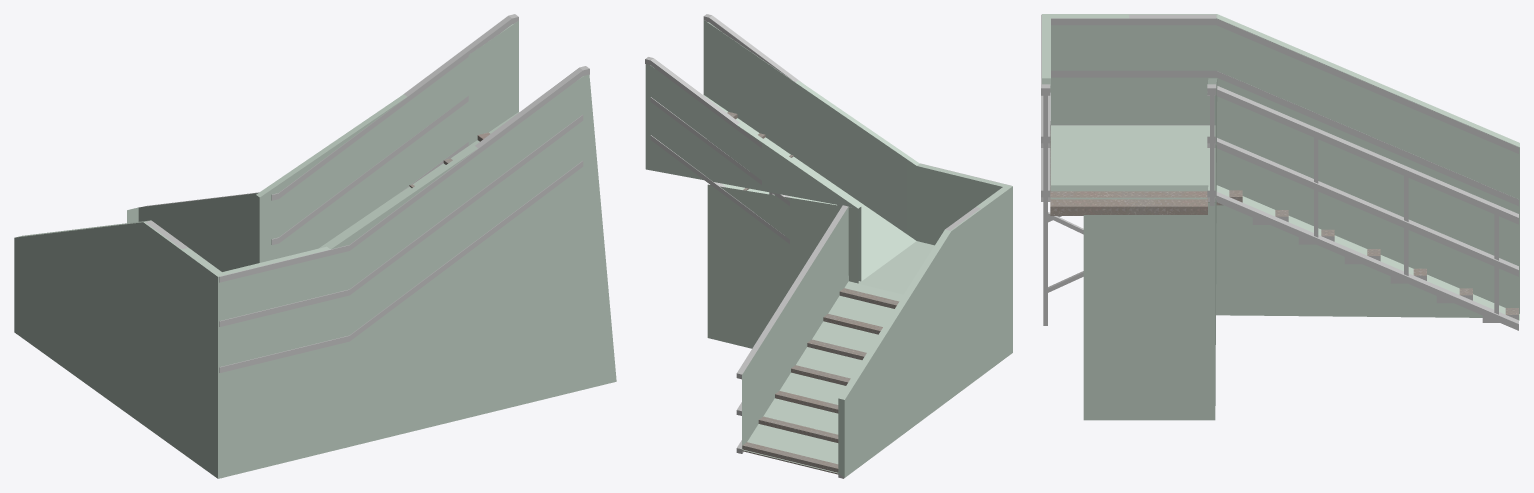
Rendered from GBZH35_Helipad_Stairs01.gltf.
3 renders of one model, left to right at view 1: azimuth 30°, elevation 25°; view 2: azimuth 150°, elevation 25°; view 3: azimuth 270°, elevation 25°, orthographic. The views are drawn at different scales.
Parts seen in each view (by area): view 1: Stairs01; view 2: Stairs01; view 3: Stairs01.
Boxes of the visible parts, x1=… form: Stairs01: x1=14, y1=14, x2=616, y2=478; Stairs01: x1=645, y1=14, x2=1012, y2=478; Stairs01: x1=1041, y1=14, x2=1519, y2=420.
Size of the model in its own units: 4.79 by 3.72 by 4.25.
